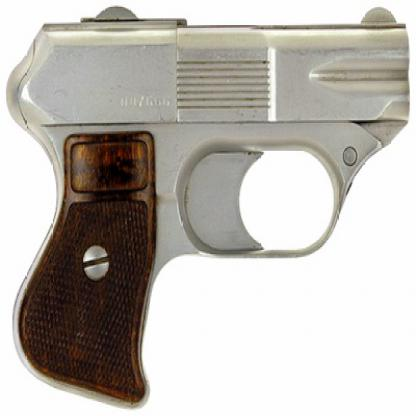Guns: (3, 0, 415, 415)
